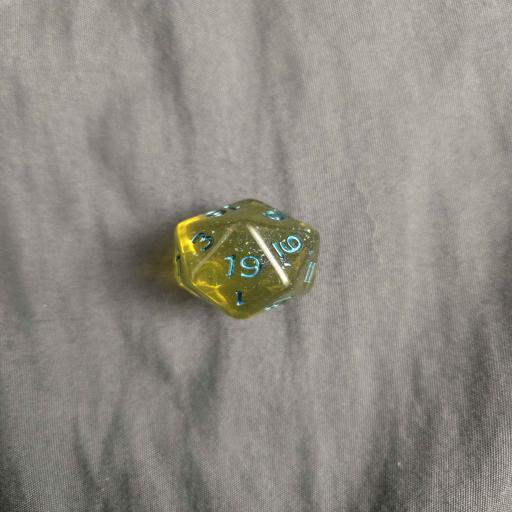twenty sided dice: (172, 198, 321, 320)
